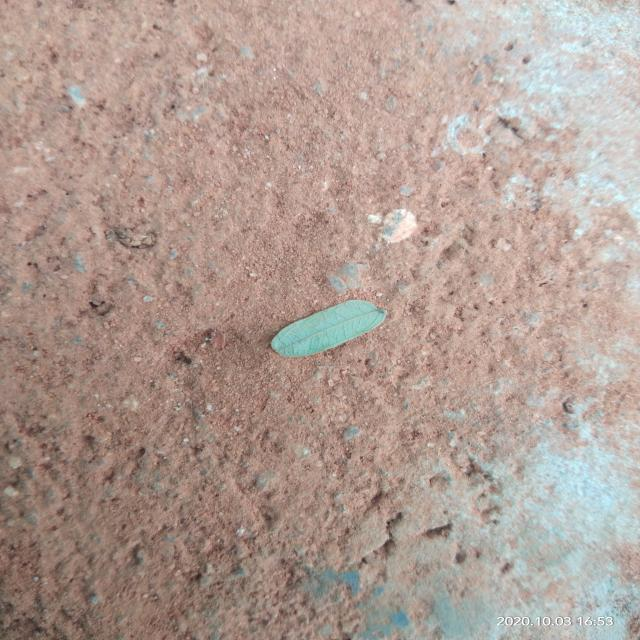tamarind: (272, 300, 387, 358)
